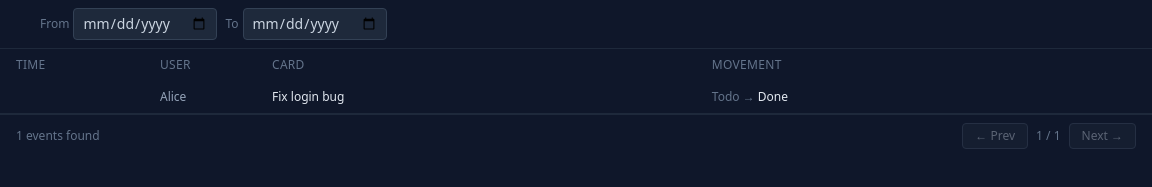
MovementHistoryView — slide-in panel › opens slide-in panel on row click
This screenshot has width=1152, height=187.
Click the row with test id "history-row" at (576, 97), box top-left (0, 81), bottom-right (1151, 114)
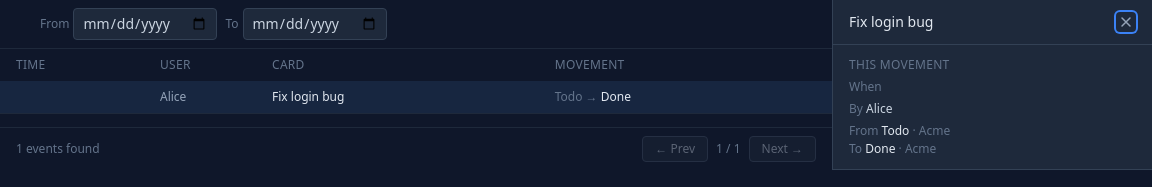
Now the element named "Movement detail" is shown, box top-left (832, 0), bottom-right (1151, 170)
Now the heading "Fix login bug" is shown, box top-left (849, 12), bottom-right (941, 31)
